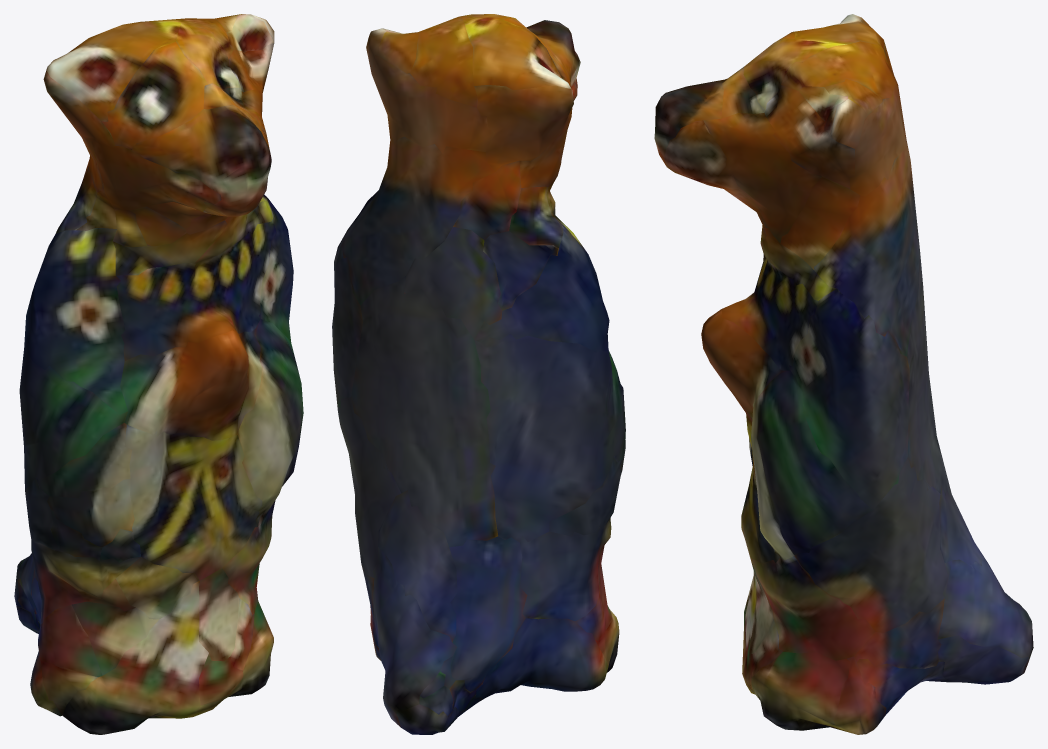
The model's file is hall.glb.
3 renders of one model, left to right at view 1: azimuth 30°, elevation 25°; view 2: azimuth 150°, elevation 25°; view 3: azimuth 270°, elevation 25°, orthographic. The views are drawn at different scales.
Size of the model in its own units: 0.1701 by 0.3942 by 0.2061.
Materials: 1 (1 with a texture image).
